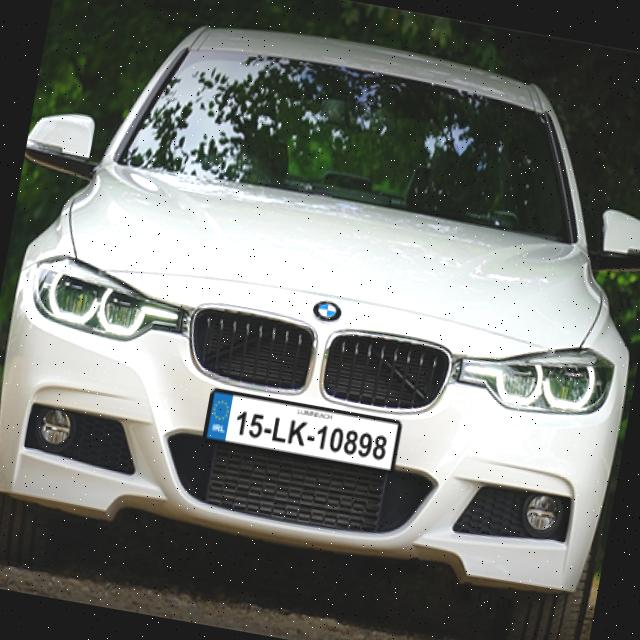EU: (203, 391, 400, 472)
Irlande: (205, 392, 232, 442)
